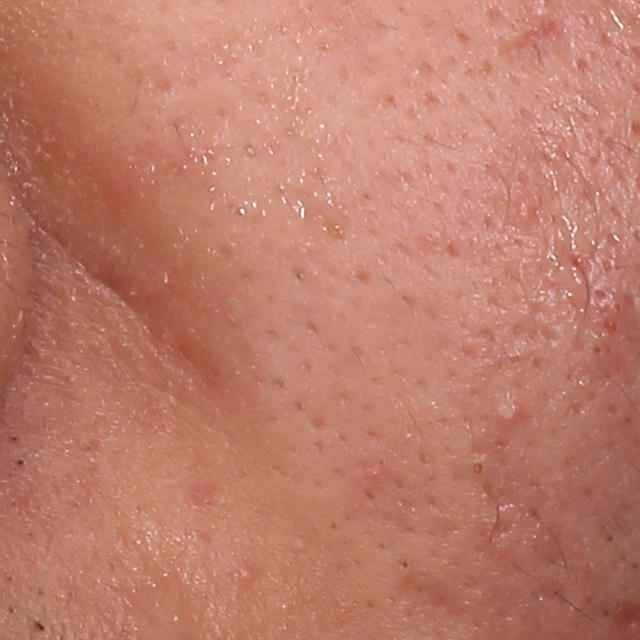atrophic_scar: (492, 14, 564, 69), (478, 492, 518, 546)
comedo: (469, 460, 487, 479)
papule: (236, 563, 260, 587)
pustule: (483, 390, 532, 430)
